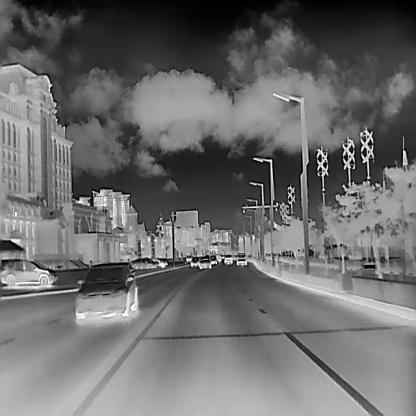car: (74, 261, 137, 318), (0, 257, 57, 285), (130, 256, 156, 269), (150, 255, 168, 267), (198, 254, 210, 268), (236, 251, 247, 265), (209, 253, 218, 265), (190, 255, 199, 267), (223, 253, 233, 263), (215, 253, 221, 262), (185, 253, 191, 261)
